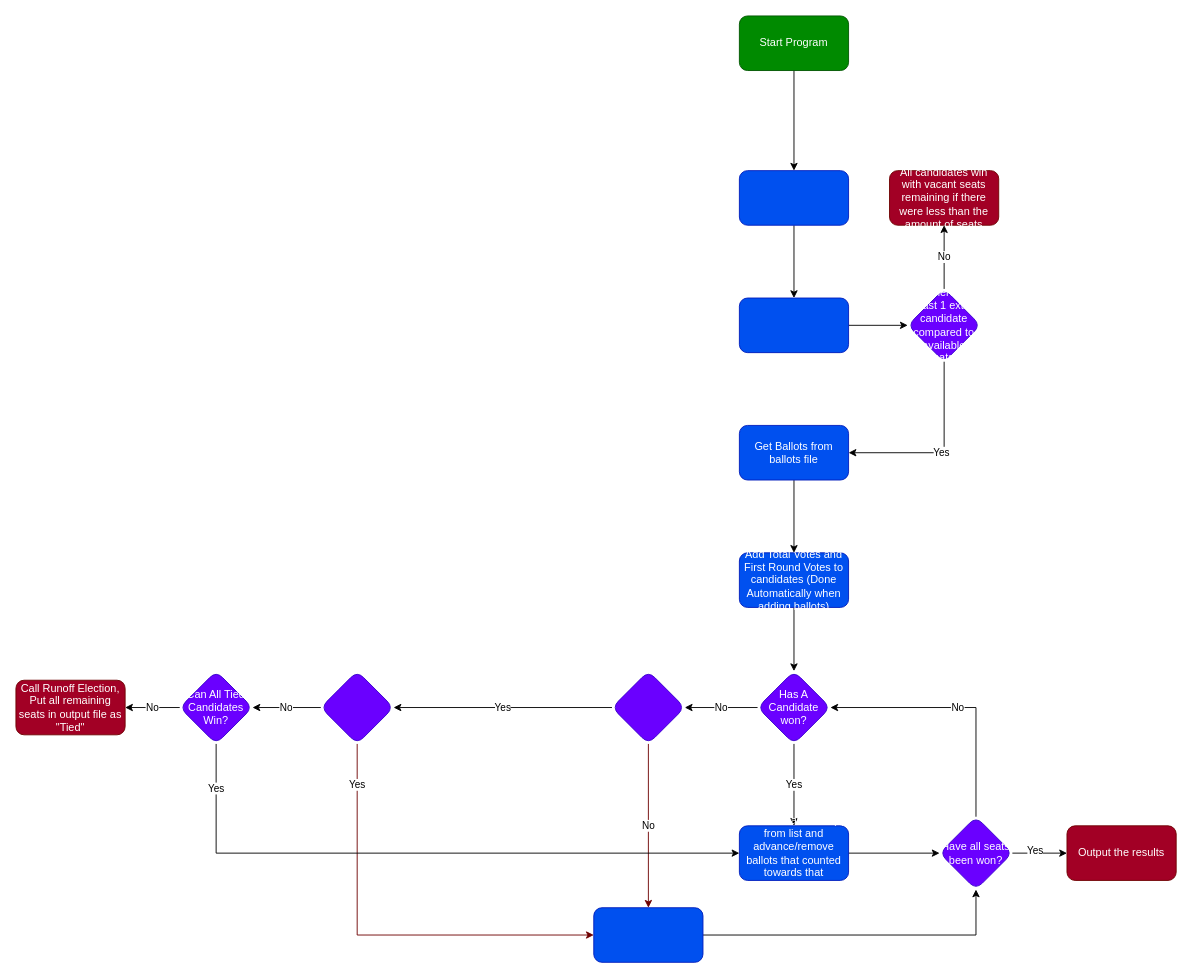
Some shapes in this 1192 by 978 pixel diagram are drawn without their labels. The centre of each missing label's shape, as x and y in pixels:
Are There multiple tied last place candidates?: (x=648, y=707)
Can All Tied Candidates be Eliminated?: (x=357, y=707)
Eliminate Candidates in last place: (x=648, y=934)
Get Info from settings file: (x=793, y=197)
Get list of Available Candidates from candidates file: (x=793, y=325)
